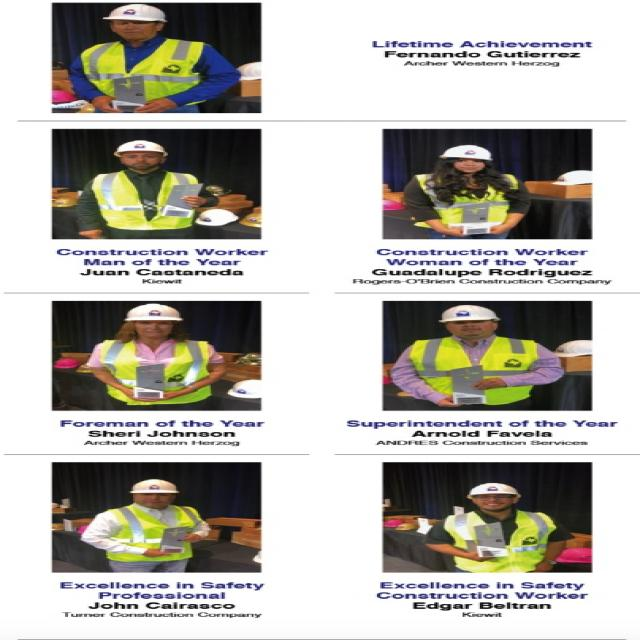Reflective-Jacket: (401, 335, 540, 405), (76, 37, 209, 110), (94, 336, 220, 406), (406, 169, 530, 237), (440, 509, 561, 572), (90, 169, 201, 231), (105, 503, 201, 561)
Safety-Helmet: (98, 3, 171, 23), (119, 302, 187, 323), (434, 303, 502, 324), (434, 142, 497, 162), (110, 139, 170, 156), (462, 481, 524, 497), (127, 477, 182, 495)
